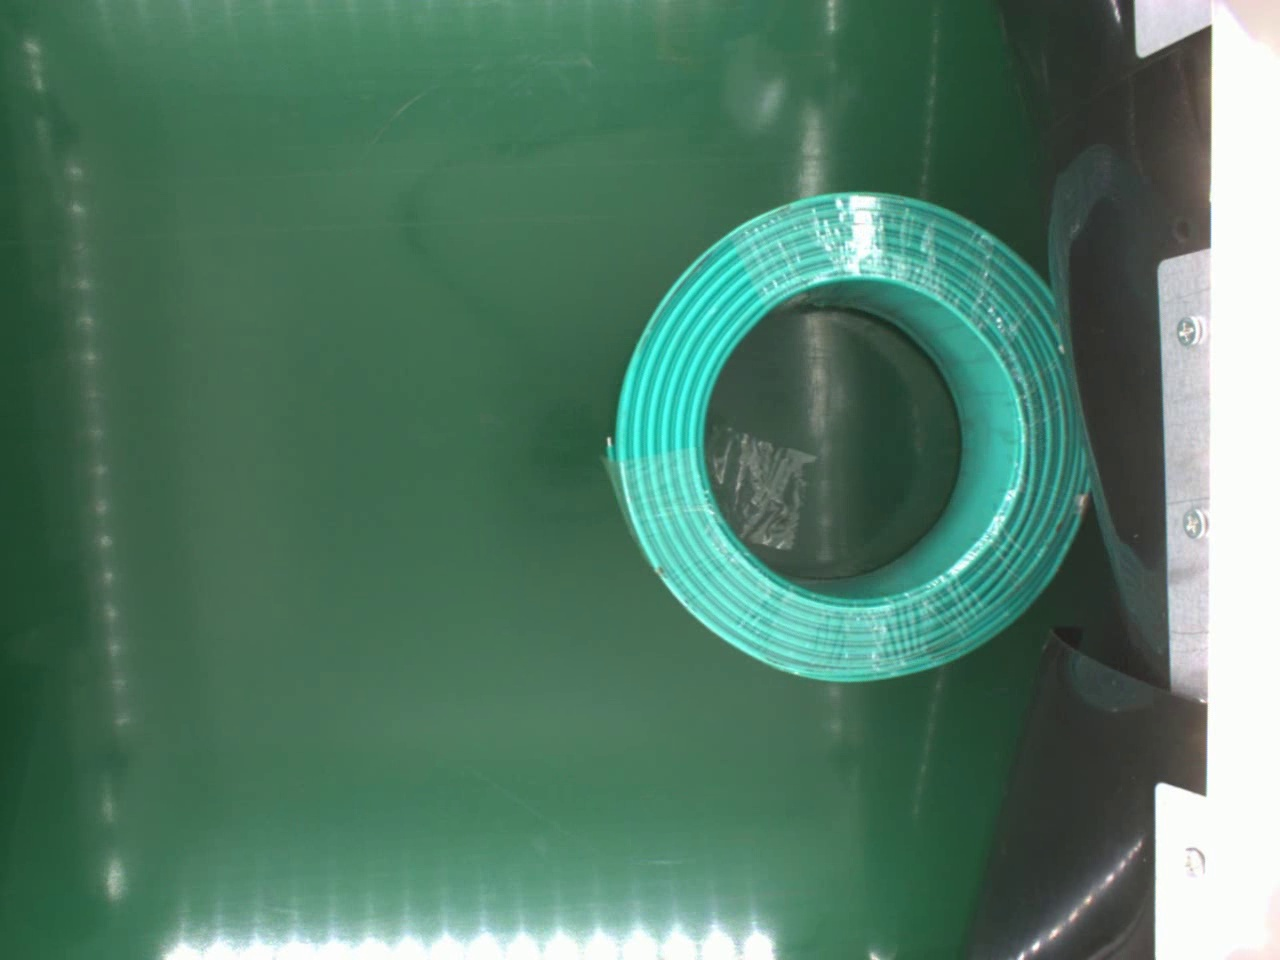green: (609, 182, 1091, 682)
